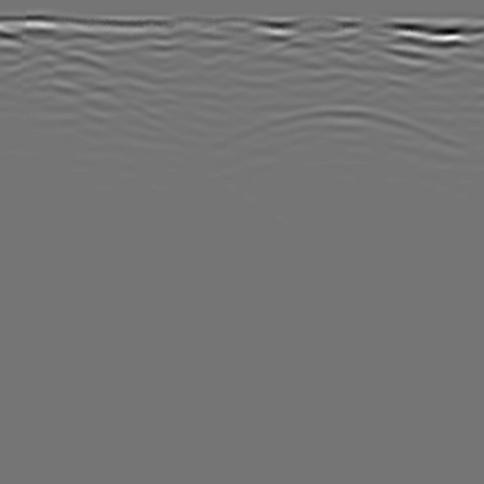hyperbola: (190, 94, 482, 199)
